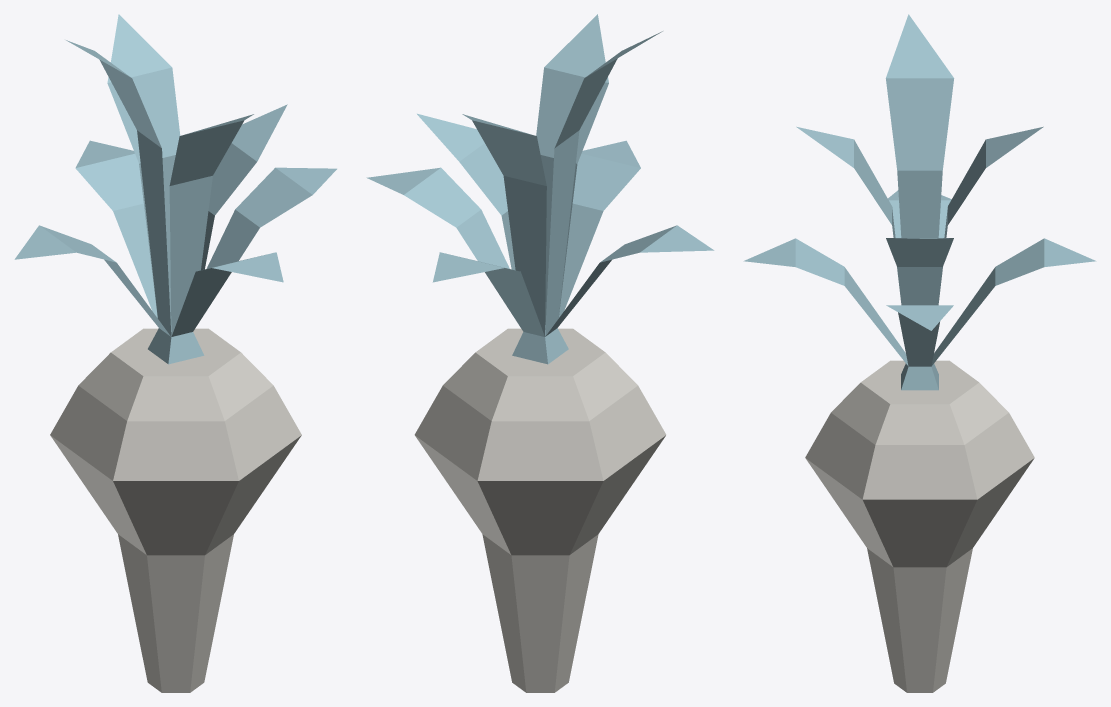
File: cc0-crop-turnip-lod1.glb
The picture shows the model from 3 angles, left to right: view 1: azimuth 30°, elevation 25°; view 2: azimuth 150°, elevation 25°; view 3: azimuth 270°, elevation 25°; orthographic projection. The views are drawn at different scales.
Visible parts, largest first — view 1: part_0; view 2: part_0; view 3: part_0.
Part boxes in pixels (x1=…): part_0: x1=14, y1=14, x2=336, y2=692; part_0: x1=366, y1=14, x2=714, y2=692; part_0: x1=743, y1=14, x2=1096, y2=692.
Size of the model in its own units: 0.3431 by 0.6607 by 0.3431.
